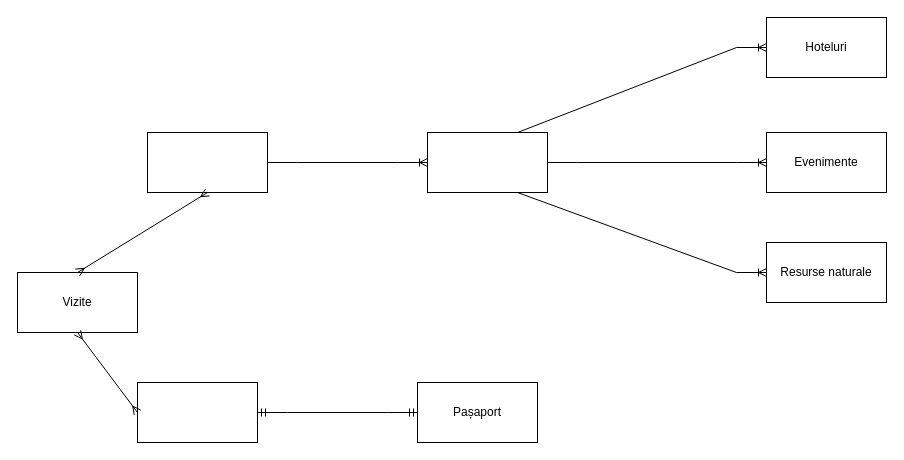
Some shapes in this 904 by 460 pixel diagram are drawn without their labels. The shapes that lost their labels are listed below. From the top down, each one's box as (x1, y1, x2, y2) in pixels, then its label:
(146, 132, 268, 192): Trasee turistice
(426, 132, 548, 192): Destinații
(136, 382, 258, 442): Turist
